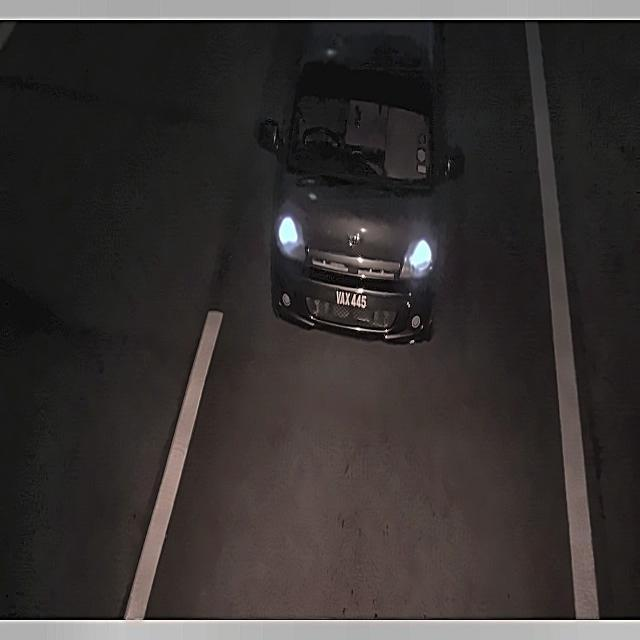car: (334, 283, 370, 314)
